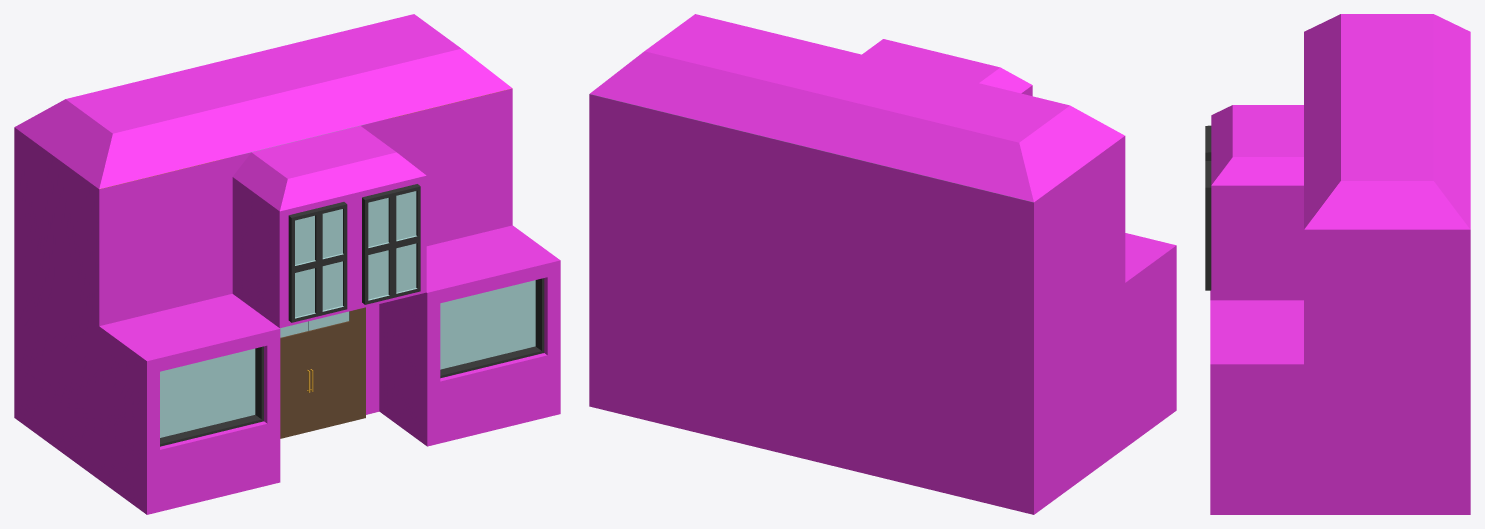
File: House pink.fbx
3 views of the same model, side by side, from view 1: azimuth 30°, elevation 25°; view 2: azimuth 150°, elevation 25°; view 3: azimuth 270°, elevation 25° (orthographic). The views are drawn at different scales.
Parts seen in each view (by area): view 1: Cube.004; view 2: Cube.004; view 3: Cube.004.
Boxes of the visible parts, box(x1,y1,x2,y2) form: Cube.004: box(14, 14, 560, 514); Cube.004: box(589, 14, 1176, 514); Cube.004: box(1205, 14, 1470, 514).
Size of the model in its own units: 2552 by 1915 by 1443.
